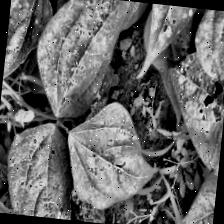ALS: (34, 0, 129, 120), (63, 99, 161, 212), (159, 27, 224, 169), (4, 121, 90, 221), (2, 7, 54, 88)
